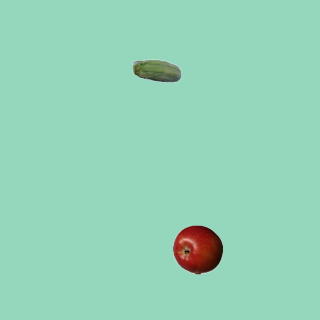Apple Braeburn: (172, 224, 222, 274)
Corn Husk: (131, 47, 181, 97)
